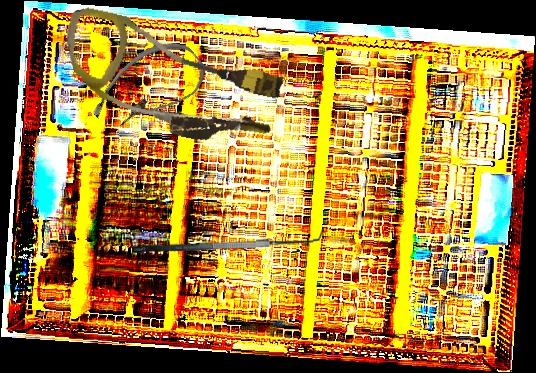Cannula: (51, 4, 290, 155), (83, 26, 214, 152)
Spatula Surgical: (131, 225, 324, 254)
